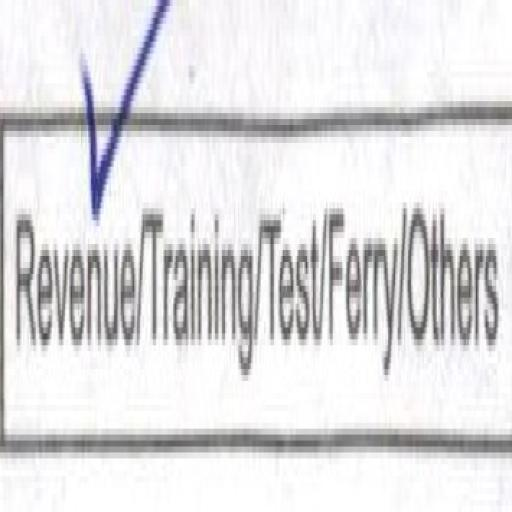check: (0, 0, 140, 444)
